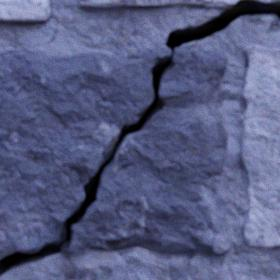brick: (241, 45, 279, 249), (0, 0, 50, 22)
broken_brick: (61, 48, 231, 255), (0, 47, 171, 252), (80, 0, 239, 7), (253, 0, 279, 2)
crack: (0, 0, 279, 279)
